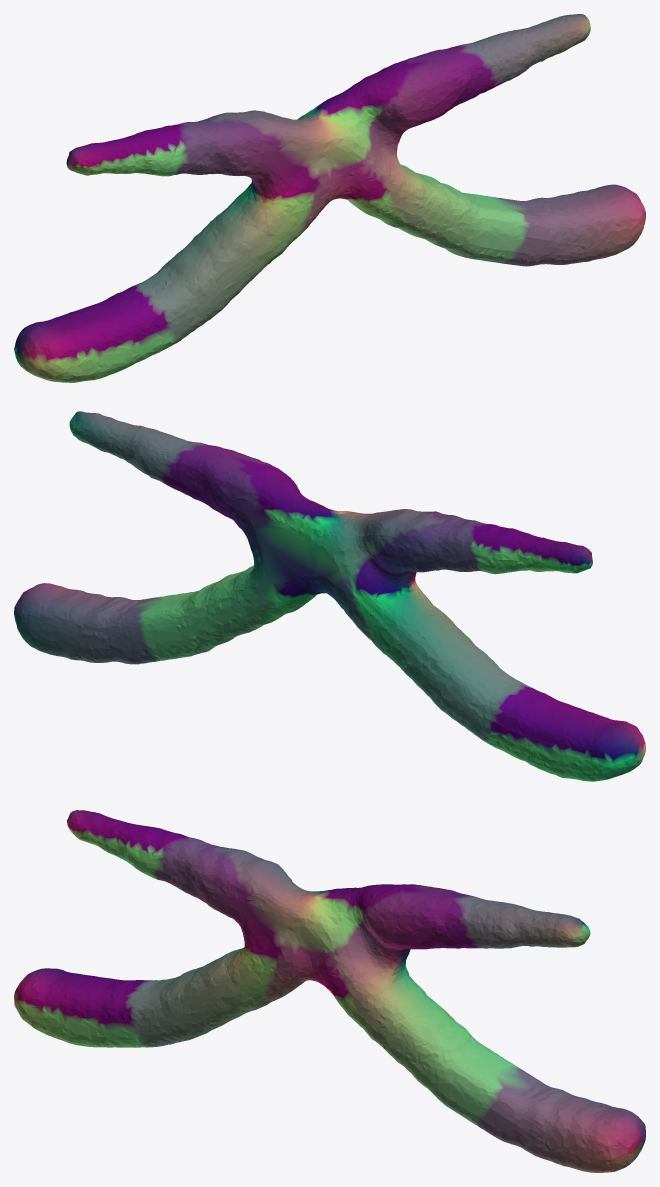
Rendered from pliers-3.off.obj.
The picture shows the model from 3 angles, top to bottom: view 1: azimuth 30°, elevation 25°; view 2: azimuth 150°, elevation 25°; view 3: azimuth 330°, elevation 25°; orthographic projection.
Bounding box in the file's own units: 1.75 × 0.6562 × 0.1814.
